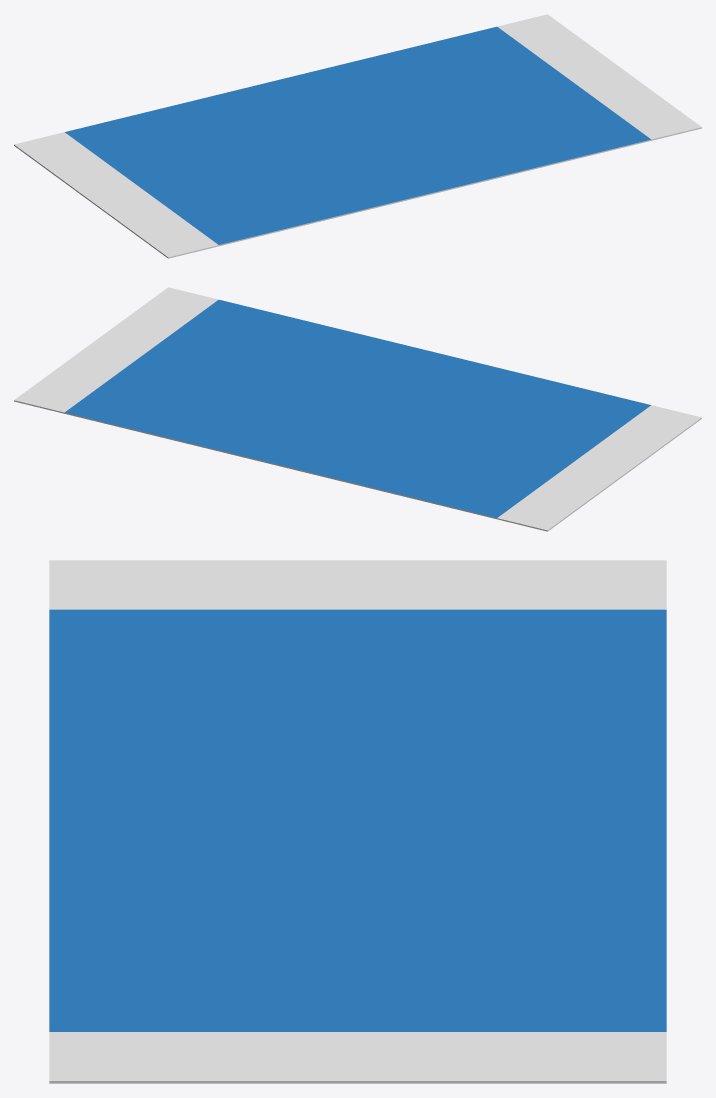
The model's file is Towel1.fbx.
The picture shows the model from 3 angles, top to bottom: view 1: azimuth 30°, elevation 25°; view 2: azimuth 150°, elevation 25°; view 3: azimuth 270°, elevation 25°; orthographic projection. The views are drawn at different scales.
Parts seen in each view (by area): view 1: Towel; view 2: Towel; view 3: Towel.
Boxes of the visible parts, left/top/right/bottom form: Towel: left=14, top=14, right=701, bottom=258; Towel: left=14, top=287, right=701, bottom=531; Towel: left=49, top=560, right=666, bottom=1083.
Size of the model in its own units: 158 by 0.3636 by 79.36.
